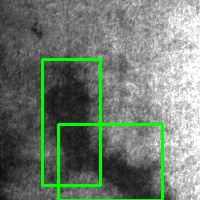patches: (58, 124, 162, 200), (42, 59, 100, 185)
